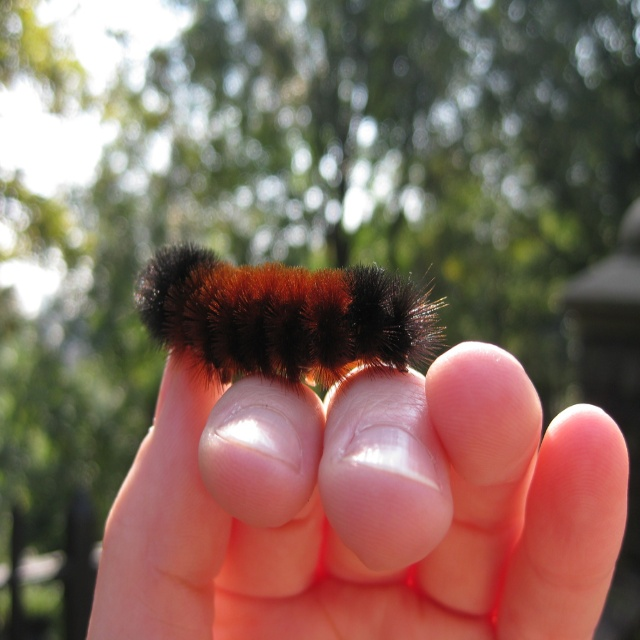Caterpillar: (132, 236, 450, 397)
